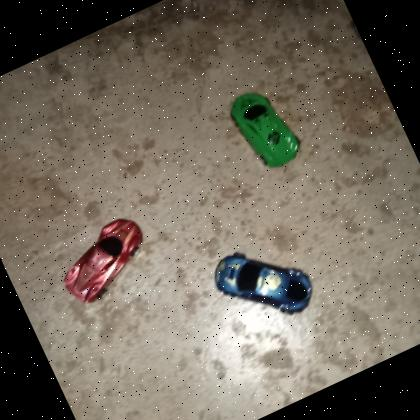Car: (204, 226, 323, 342), (46, 208, 161, 310), (222, 78, 309, 180)
